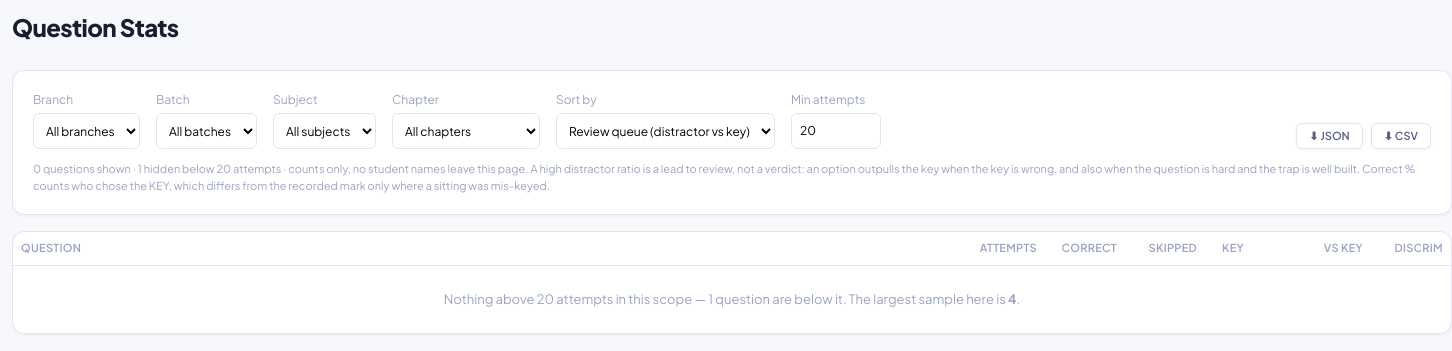
ItemStatsPage — findings and empty states › flags a sitting whose marks disagree with the key
Replace the text in the number field labelled "Min attempts" with "1" at (836, 131), box left=791, top=113, right=881, bottom=149
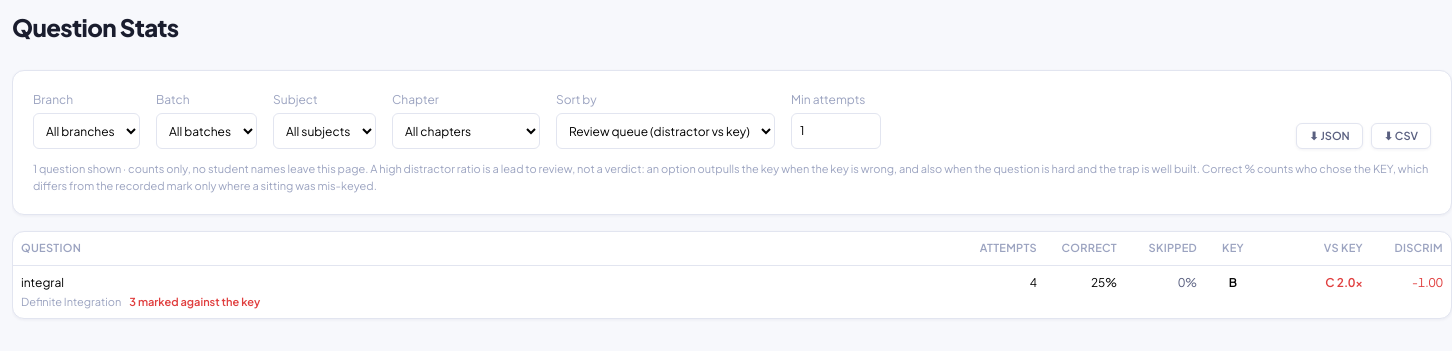
Result: the text "3 marked against the key" is shown at left=129, top=294, right=260, bottom=308
